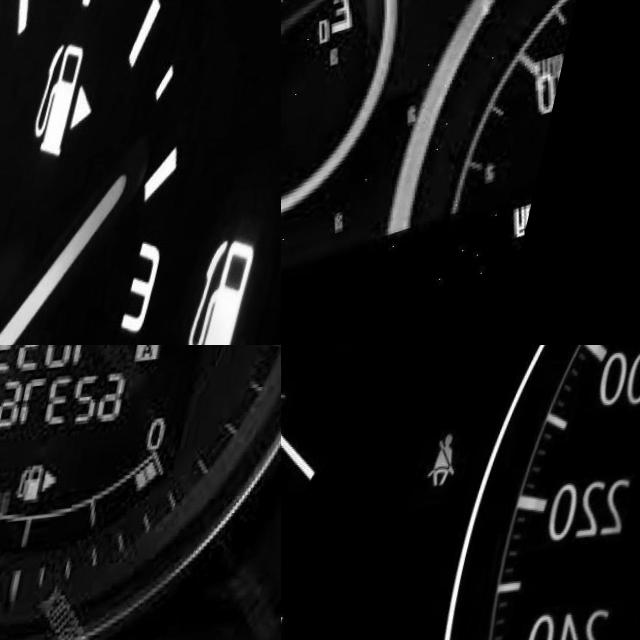Seat Belt: (435, 439, 480, 495)
